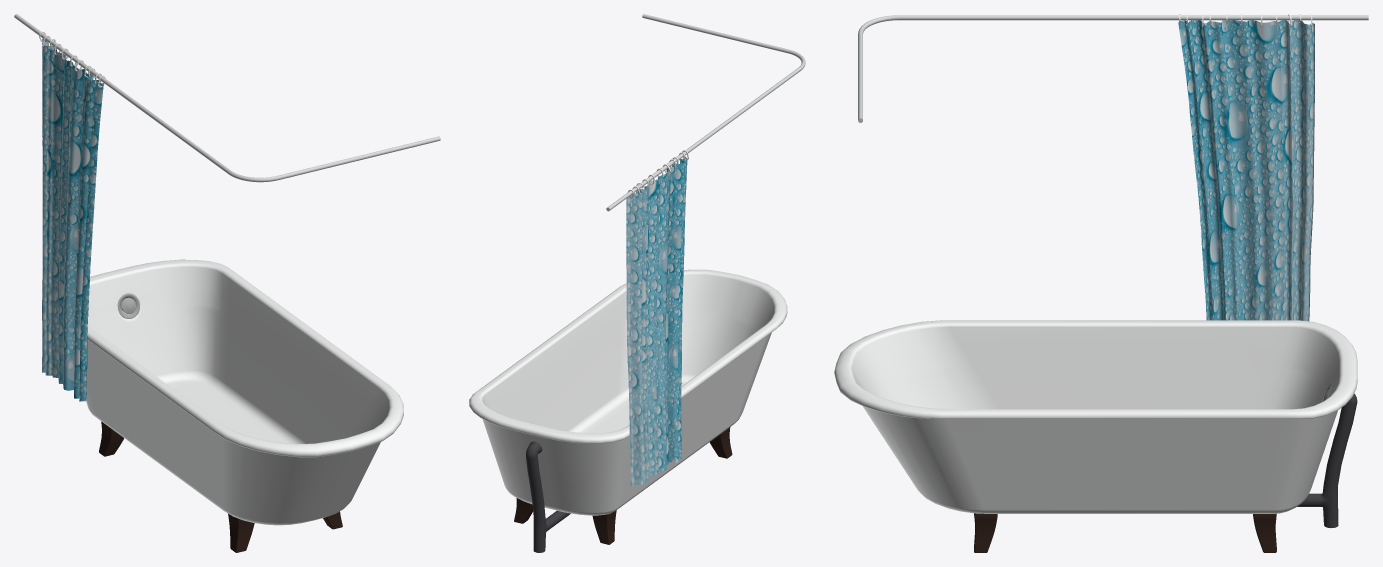
The model's file is bath.fbx.
3 renders of one model, left to right at view 1: azimuth 30°, elevation 25°; view 2: azimuth 150°, elevation 25°; view 3: azimuth 270°, elevation 25°, orthographic. The views are drawn at different scales.
Visible parts, largest first — view 1: BathBody, Curtain, CurtainGuide, Leg1, Curtain1, Leg2; view 2: BathBody, Curtain, CurtainGuide, Pipe, Leg2, Curtain1, Leg1; view 3: BathBody, Curtain1, CurtainGuide, Pipe, Leg, Leg3.
Boxes of the visible parts, left/top/right/bottom form: BathBody: left=86, top=259, right=403, bottom=525; Curtain: left=42, top=38, right=102, bottom=401; CurtainGuide: left=14, top=14, right=440, bottom=182; Leg1: left=228, top=513, right=254, bottom=552; Curtain1: left=44, top=41, right=103, bottom=400; Leg2: left=99, top=421, right=123, bottom=456; BathBody: left=469, top=269, right=787, bottom=515; Curtain: left=627, top=157, right=687, bottom=486; CurtainGuide: left=606, top=14, right=805, bottom=211; Pipe: left=526, top=441, right=570, bottom=552; Leg2: left=592, top=510, right=616, bottom=544; Curtain1: left=626, top=157, right=686, bottom=486; Leg1: left=709, top=427, right=732, bottom=458; BathBody: left=834, top=320, right=1357, bottom=513; Curtain1: left=1178, top=20, right=1314, bottom=321; CurtainGuide: left=858, top=15, right=1368, bottom=122; Pipe: left=1297, top=393, right=1357, bottom=527; Leg: left=974, top=513, right=997, bottom=552; Leg3: left=1253, top=513, right=1276, bottom=552.
Size of the model in its own units: 99.87 by 198 by 208.
